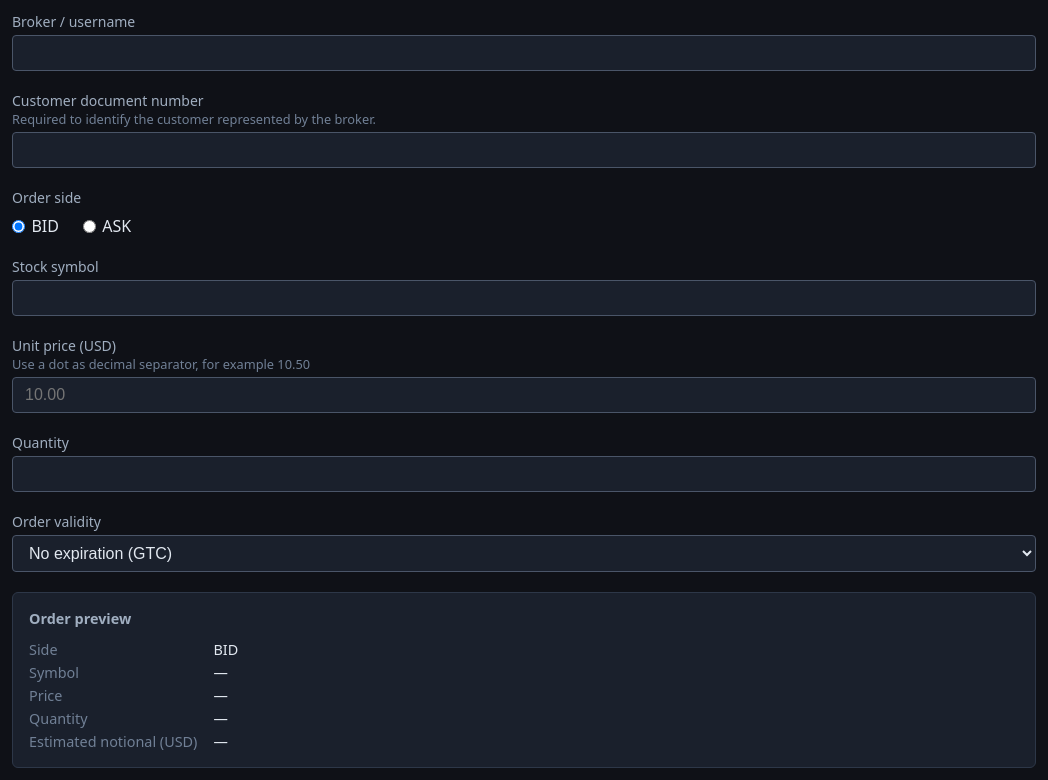
it: SubmitOrderForm – symbol input › does not allow more than 4 letters
Type "GOOGL" into the field labelled "Stock symbol". click: (524, 298)
box: [12,280,1036,316]
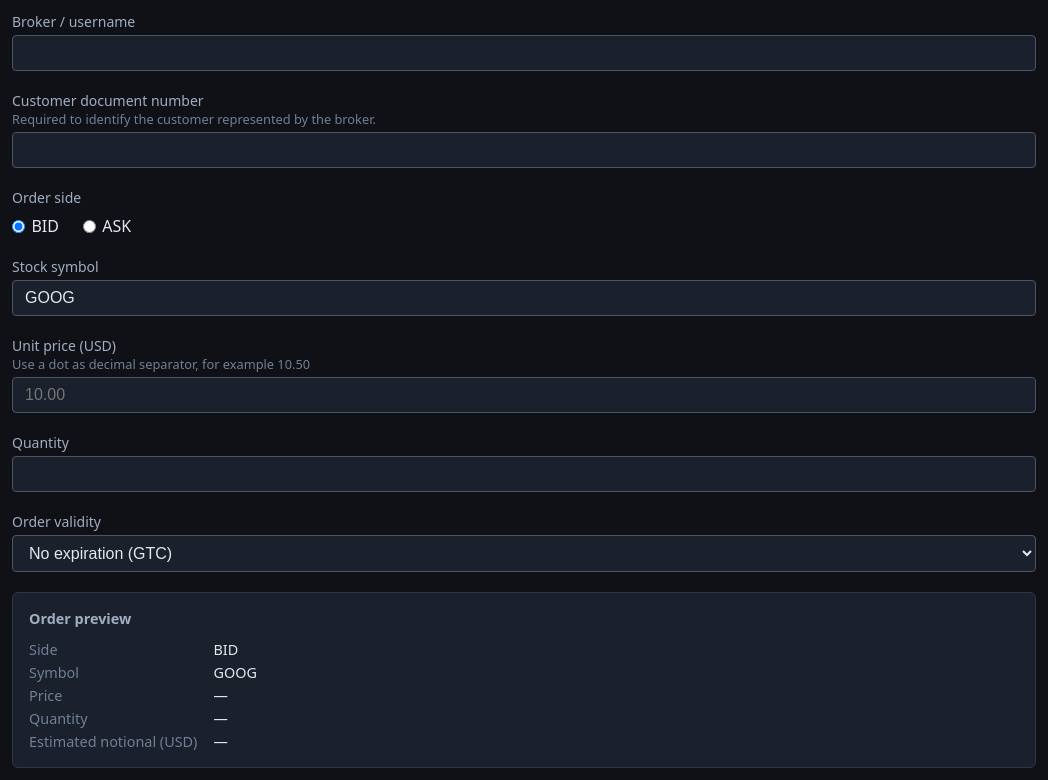
Check: the field labelled "Stock symbol" holds "GOOG", box [12,280,1036,316]
